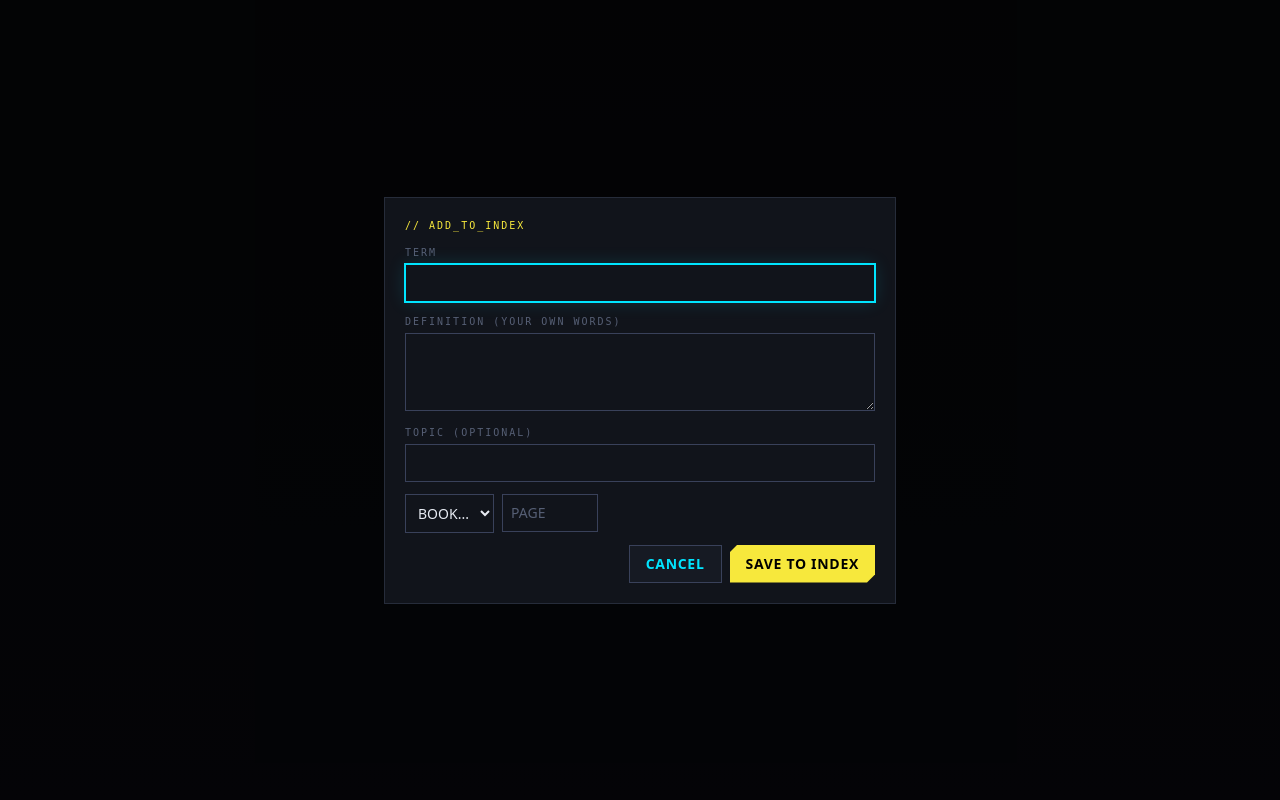
Test case: without a fixed citation the dialog requires book and page
Type "Crater Watch" into the field labelled "TERM" at (640, 282), box [405,264,875,302]
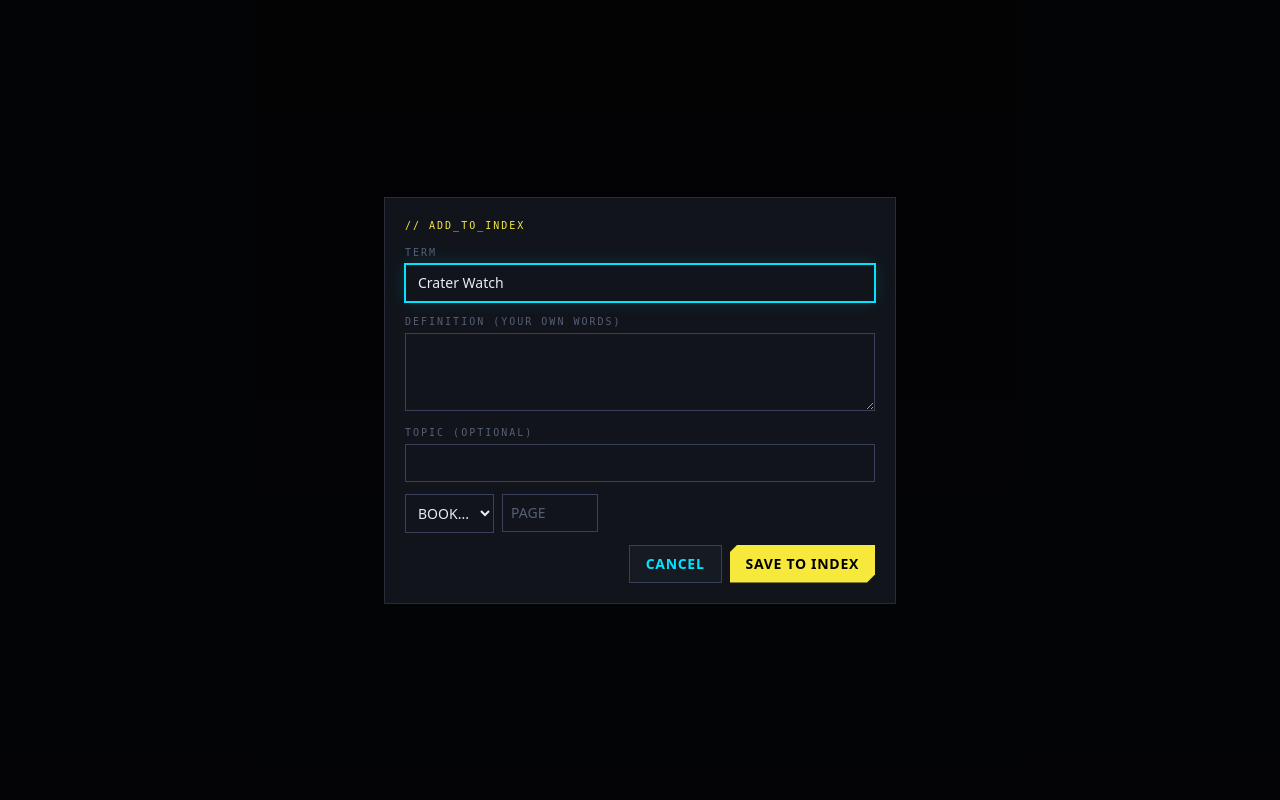
Click the button "SAVE TO INDEX" at (802, 564), box [730,544,875,582]
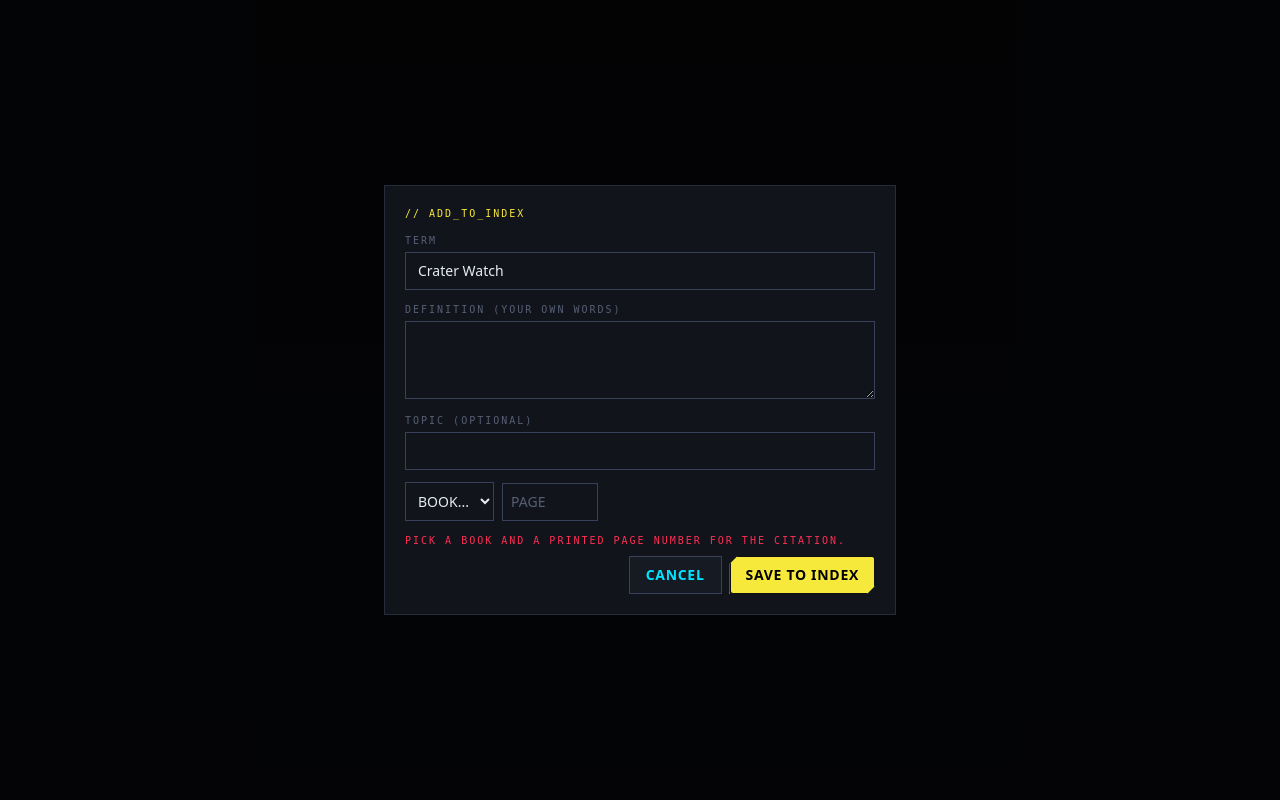
Expected: the text "Pick a book and a printed page number for the citation." is shown, [405,533,875,548]
